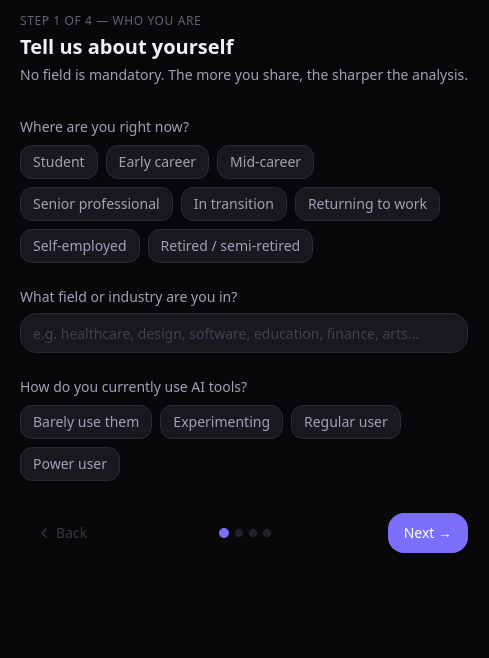
QuestionnaireScreen › preserves step 1 field answer after navigating forward and back
The image size is (489, 658).
Type "software" into the field with placeholder "e.g. healthcare" at point(244, 333), box [20,313,468,353]
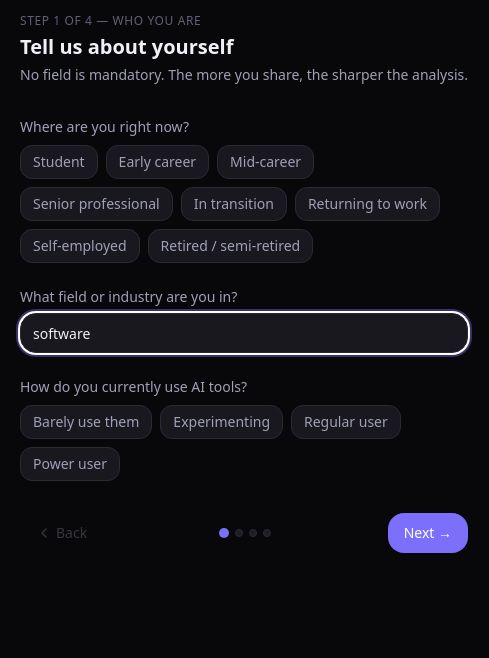
Click the button "Next →" at point(428, 533), box [388,513,468,553]
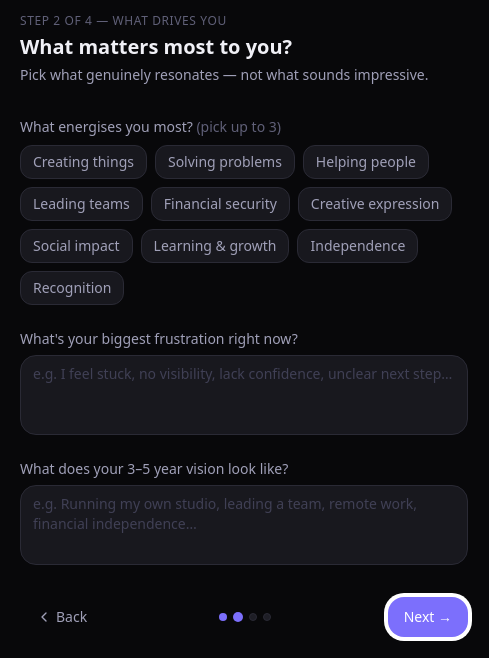
Click the button "Back" at point(62, 617), box [20,597,103,637]
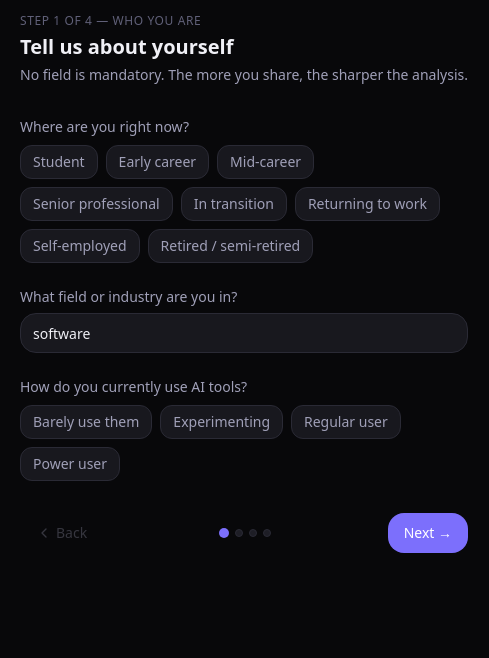
expect the field with placeholder "e.g. healthcare" holds "software": met, box [20,313,468,353]
